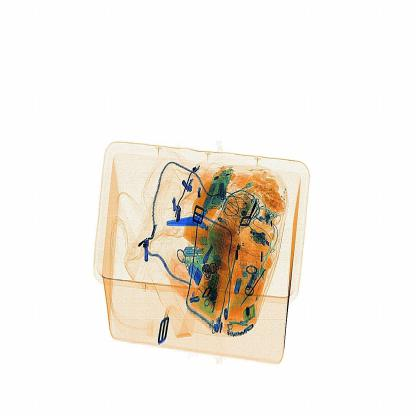gun: (147, 189, 235, 246)
